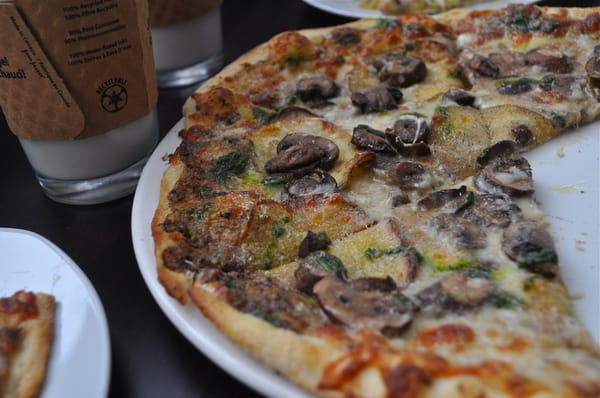pizza: (0, 0, 160, 205), (147, 0, 226, 88)
